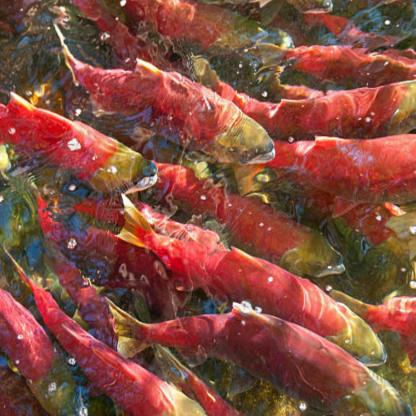sockeye: (124, 193, 374, 330), (141, 305, 416, 416), (68, 28, 266, 167), (13, 102, 148, 194)
sockeye-group: (0, 22, 409, 416)
